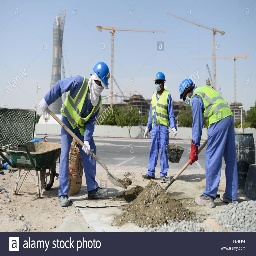helmet: (93, 63, 111, 87), (178, 80, 193, 99), (155, 72, 165, 80)
person: (39, 61, 114, 202), (178, 80, 237, 206), (145, 71, 175, 181)
vest: (66, 77, 97, 129), (194, 88, 232, 122), (152, 92, 168, 128)
